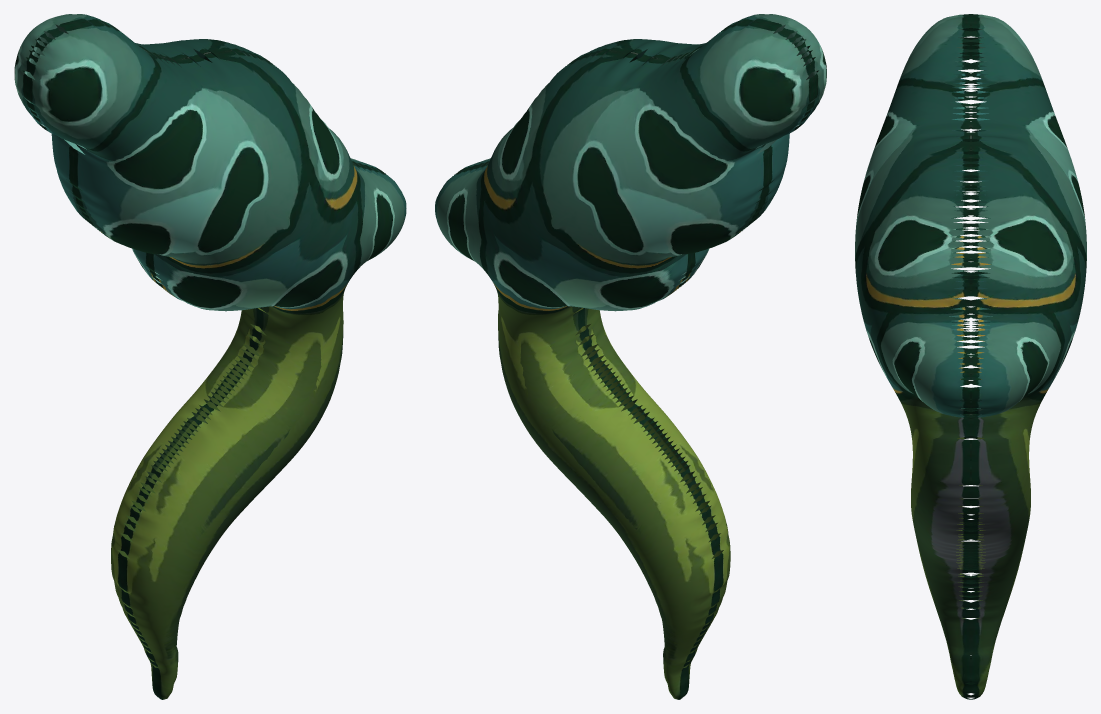
File: tube_cluster.glb
3 renders of one model, left to right at view 1: azimuth 30°, elevation 25°; view 2: azimuth 150°, elevation 25°; view 3: azimuth 270°, elevation 25°, orthographic. The views are drawn at different scales.
Visible parts, largest first — view 1: tube_cluster; view 2: tube_cluster; view 3: tube_cluster.
Boxes of the visible parts, x1,y1,x2,y2 form: tube_cluster: [14, 14, 406, 699]; tube_cluster: [435, 14, 826, 699]; tube_cluster: [855, 14, 1086, 699].
Size of the model in its own units: 0.9804 by 1.77 by 0.5812.
Materials: 1 (1 with a texture image).
